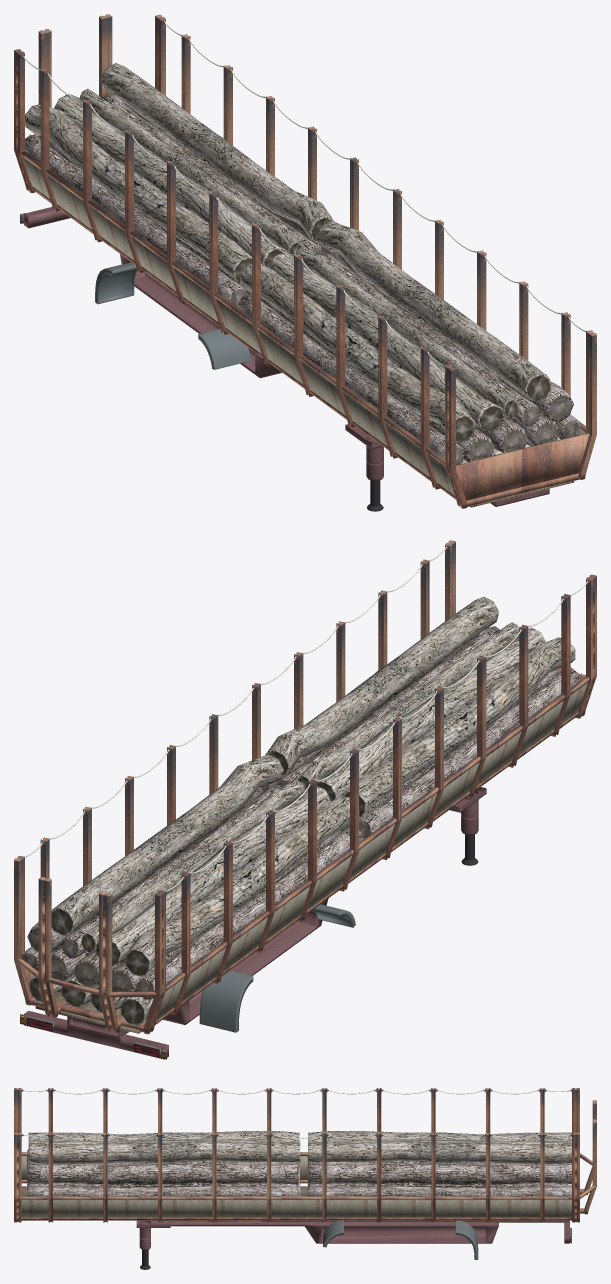
Rendered from Wooden Trailer.FBX.
3 renders of one model, top to bottom at view 1: azimuth 30°, elevation 25°; view 2: azimuth 150°, elevation 25°; view 3: azimuth 270°, elevation 25°, orthographic. The views are drawn at different scales.
Parts seen in each view (by area): view 1: Object002, subD_3, subD_6; view 2: Object002, subD_3, subD_6; view 3: Object002, subD_3, subD_6.
Part boxes in pixels (x1,y1,x2,y2): Object002: [25, 63, 580, 465]; subD_3: [20, 21, 596, 511]; subD_6: [14, 14, 165, 192]; Object002: [21, 596, 580, 1025]; subD_3: [20, 540, 596, 1059]; subD_6: [14, 856, 165, 1034]; Object002: [27, 1131, 576, 1196]; subD_3: [14, 1088, 571, 1269]; subD_6: [570, 1088, 596, 1222].
Bounding box in the file's own units: 98.15 × 140 × 522.
14 materials, 11 textured.
